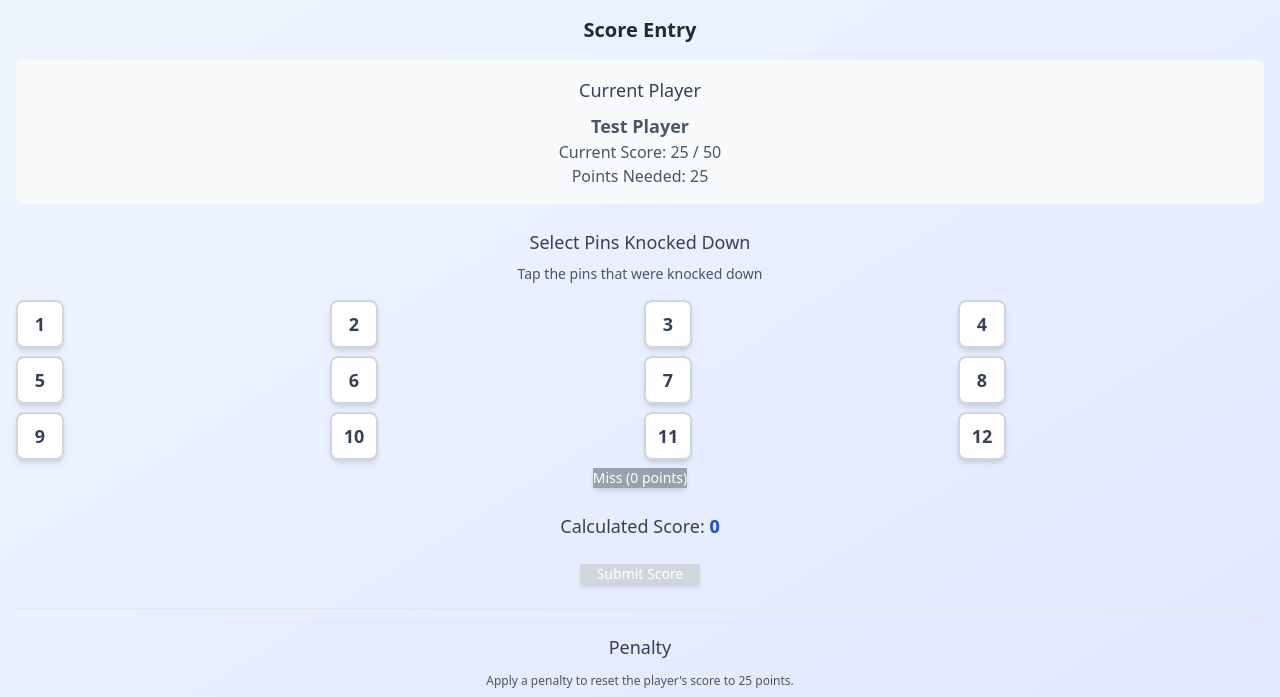
Test: ScoreInput Component › Pin Selection › should show correct instructions based on pin selection
The image size is (1280, 697).
Expected: the text "Tap the pins that were knocked down" is shown, [518,264,762,283]
After selecting one pin
Step 1. Click the button "5" → (40,380), box [16,356,64,404]
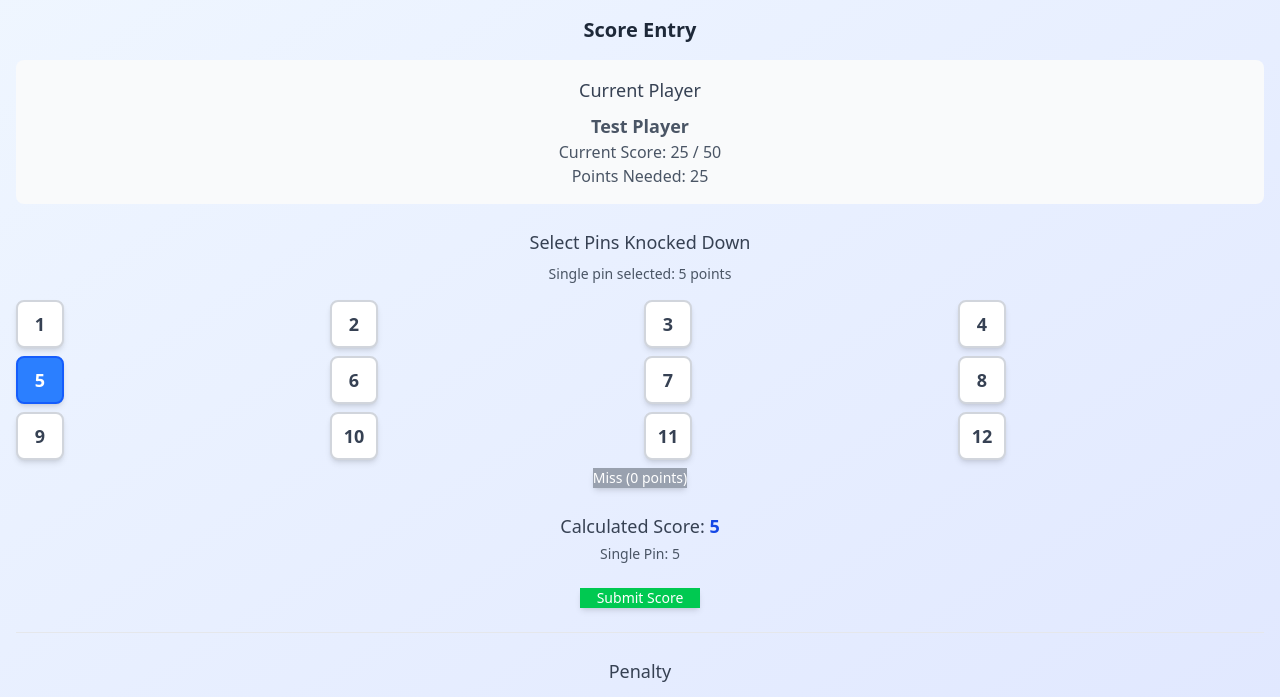
Expected: the text "Single pin selected: 5 points" is shown, [549,264,731,283]
After selecting multiple pins
Step 2. Click the button "7" → (668,380), box [644,356,692,404]
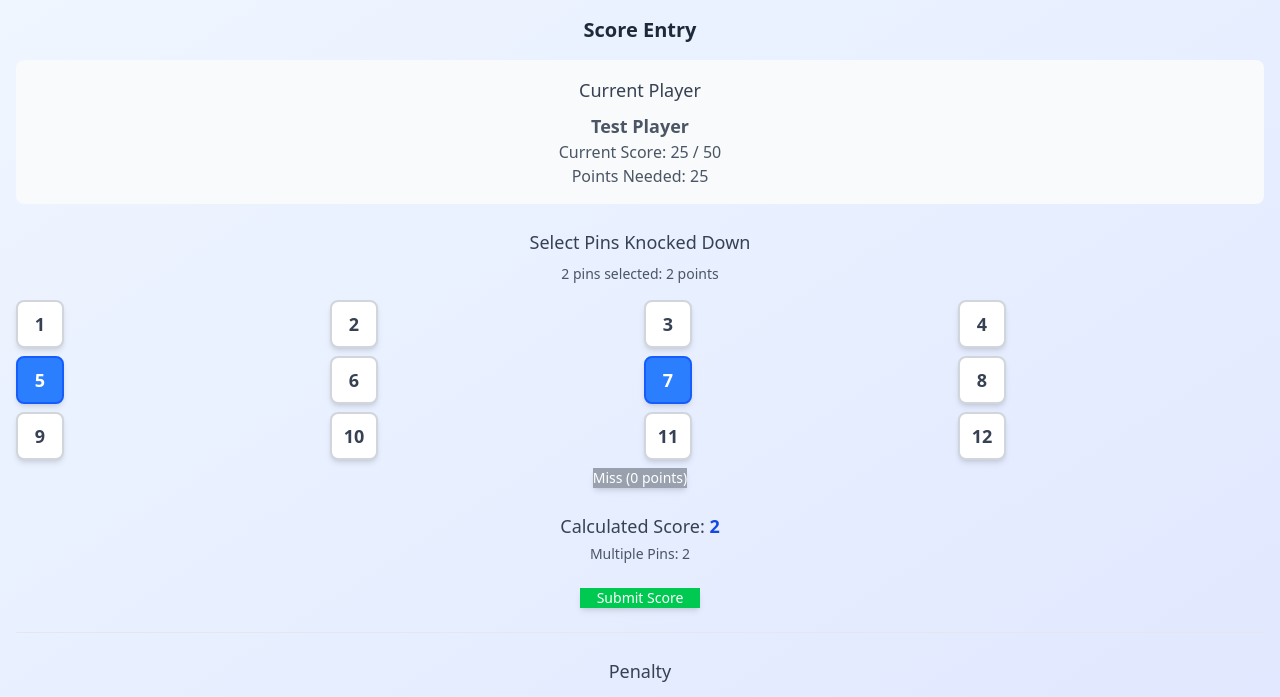
Expected: the text "2 pins selected: 2 points" is shown, [561,264,719,283]
